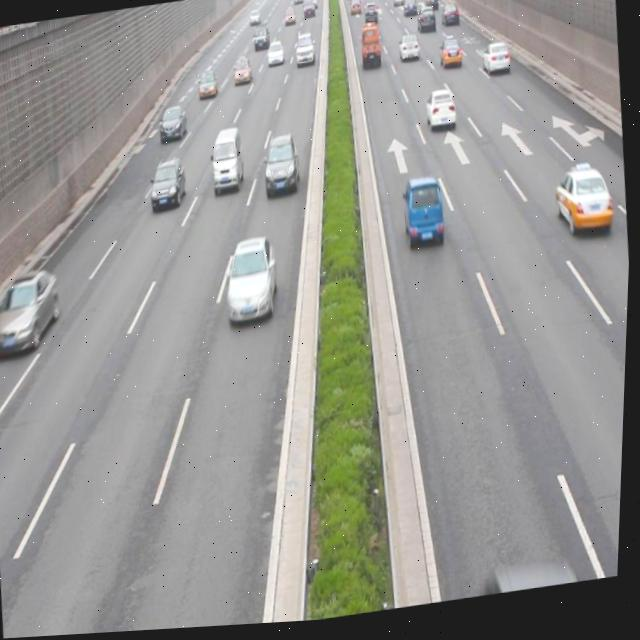car: (0, 265, 66, 356), (552, 164, 616, 251), (225, 236, 280, 331), (400, 176, 445, 255), (262, 134, 302, 202), (149, 161, 188, 210), (423, 93, 458, 140), (157, 105, 188, 145), (480, 44, 509, 83)
truck: (209, 127, 247, 196)
